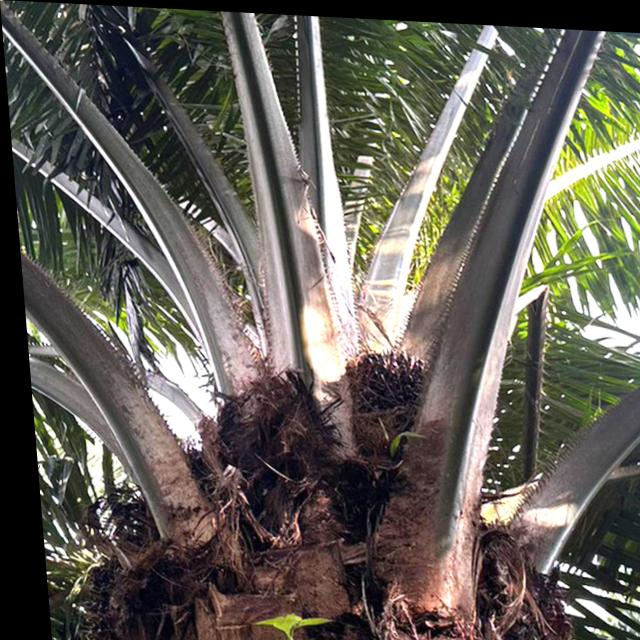almost: (329, 338, 427, 430)
